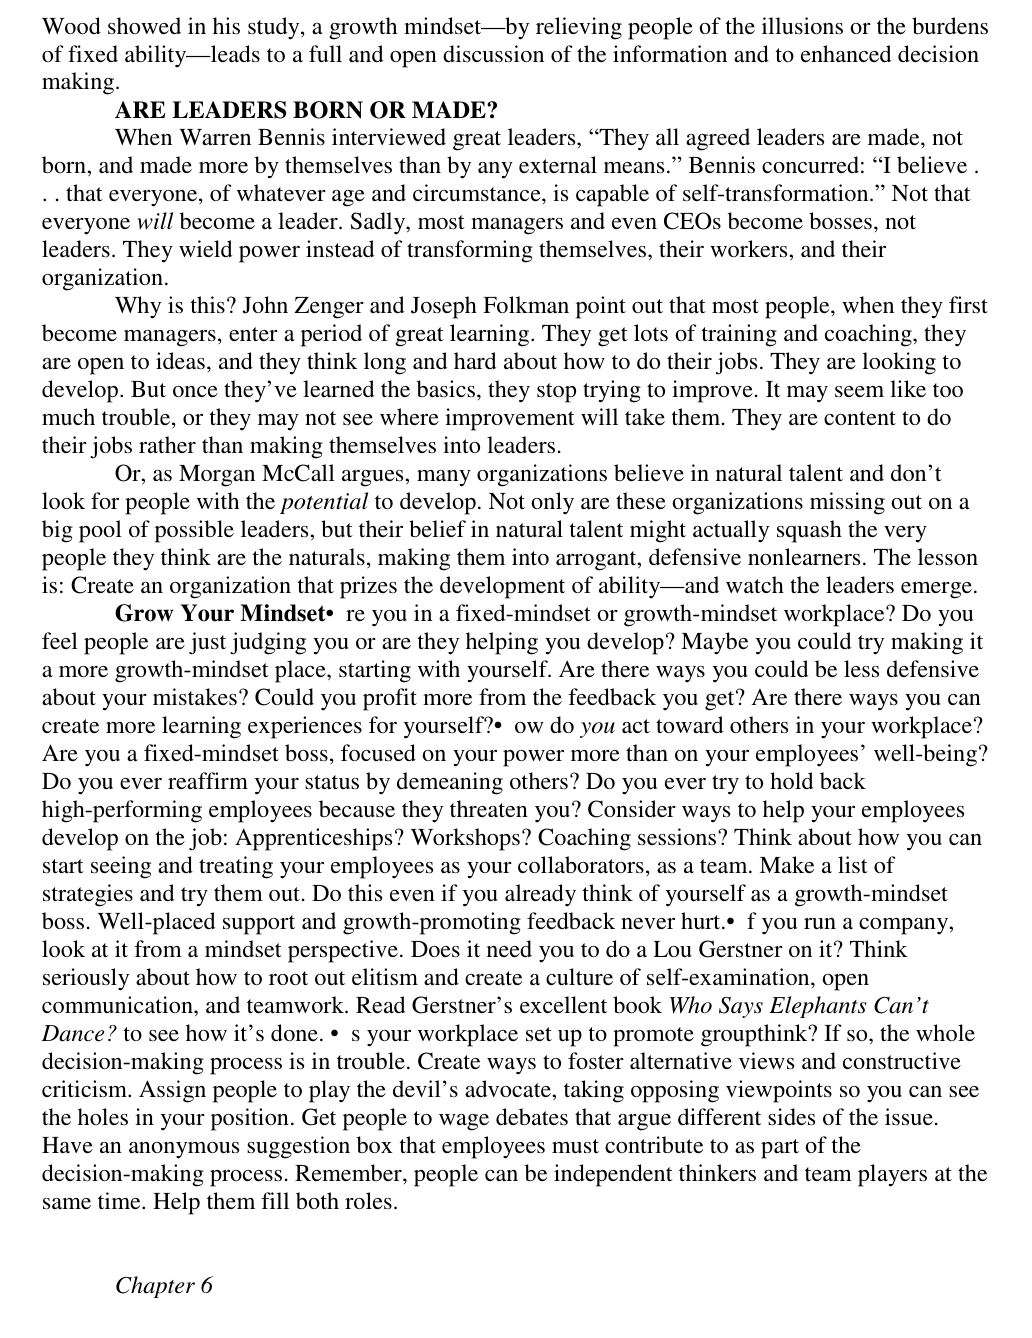latin: (40, 602, 995, 1220), (38, 292, 1002, 459), (38, 125, 986, 292), (31, 459, 983, 600), (38, 8, 992, 100), (112, 100, 501, 123), (112, 1270, 217, 1302)
